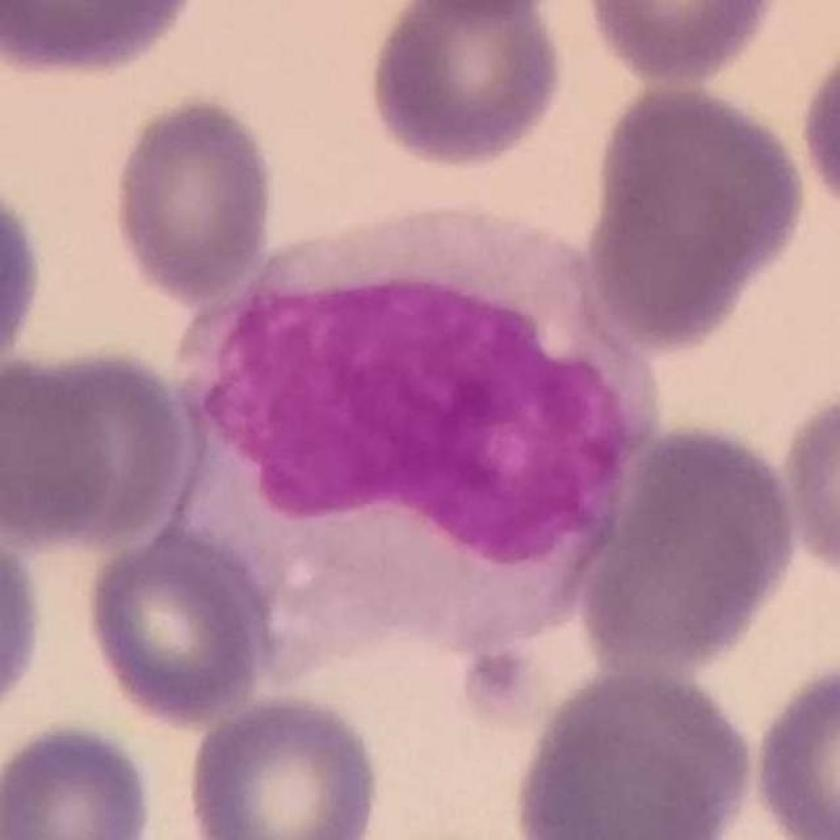monocyte: (160, 200, 678, 681)
